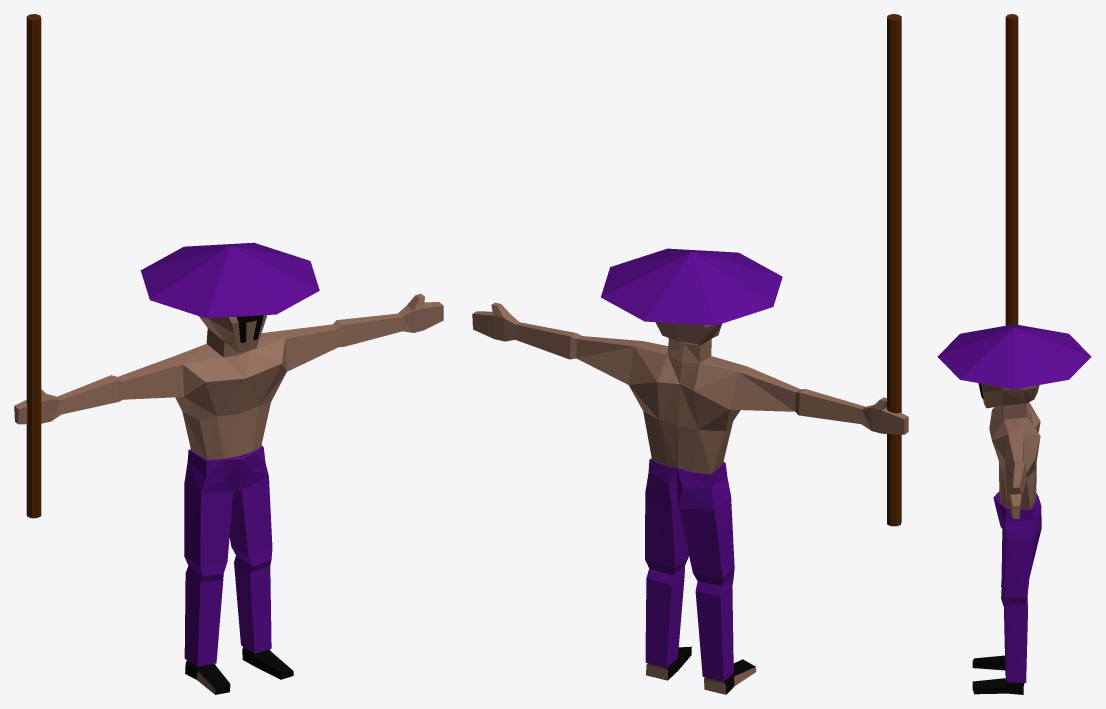
Rendered from fioletowy_chłopek_2.fbx.
The picture shows the model from 3 angles, left to right: view 1: azimuth 30°, elevation 25°; view 2: azimuth 150°, elevation 25°; view 3: azimuth 270°, elevation 25°; orthographic projection. The views are drawn at different scales.
Visible parts, largest first — view 1: Ciałko, Pała; view 2: Ciałko, Pała; view 3: Ciałko, Pała.
Boxes of the visible parts, x1,y1,x2,y2 form: Ciałko: [14, 242, 443, 694]; Pała: [26, 14, 41, 518]; Ciałko: [472, 248, 908, 694]; Pała: [887, 14, 901, 526]; Ciałko: [937, 324, 1091, 694]; Pała: [1005, 14, 1018, 325].
Bounding box in the file's own units: 1312 × 2065 × 496.
